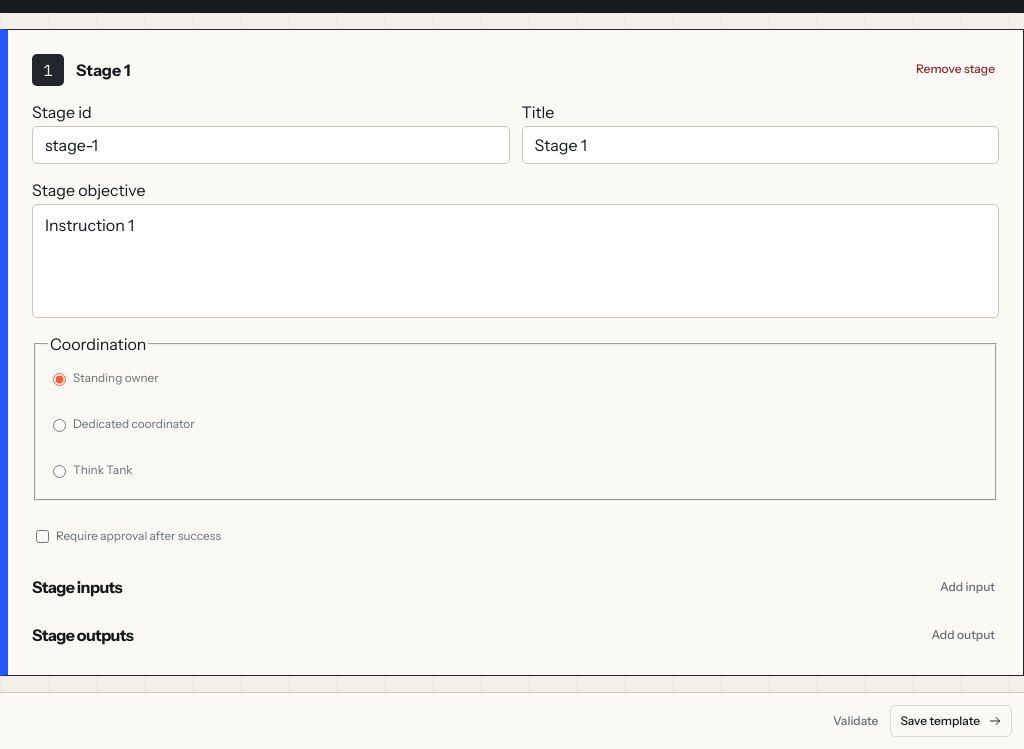
Scenario: TemplateEditor focused workspace › switches a stage to Think Tank and back without touching other stages
The width and height of the screenshot is (1024, 749).
(page scrolled)
Click the radio button labelled "Think Tank" at (60, 472), box [53,465,66,478]
(page scrolled)
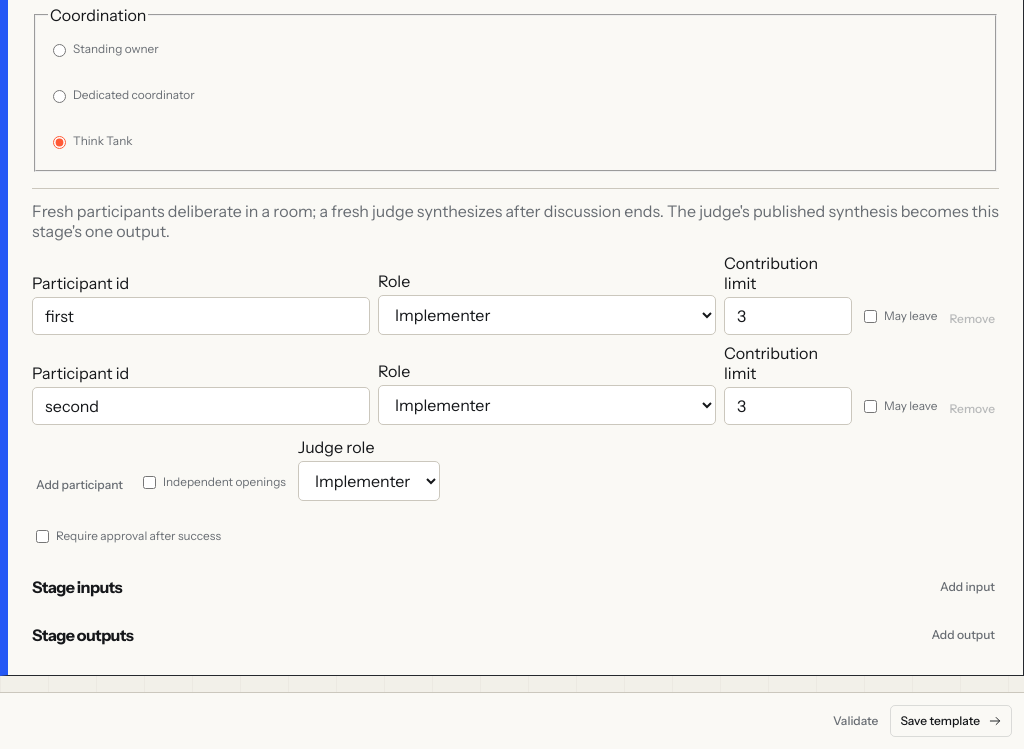
Expected: the number of fields labelled "Participant id" is 2, [32,297,370,335]; [32,387,370,425]
Expected: the dropdown labelled "Judge role" shows "Implementer", [298,461,440,501]
Click the button "Add participant" at (80, 485), box [32,469,127,501]
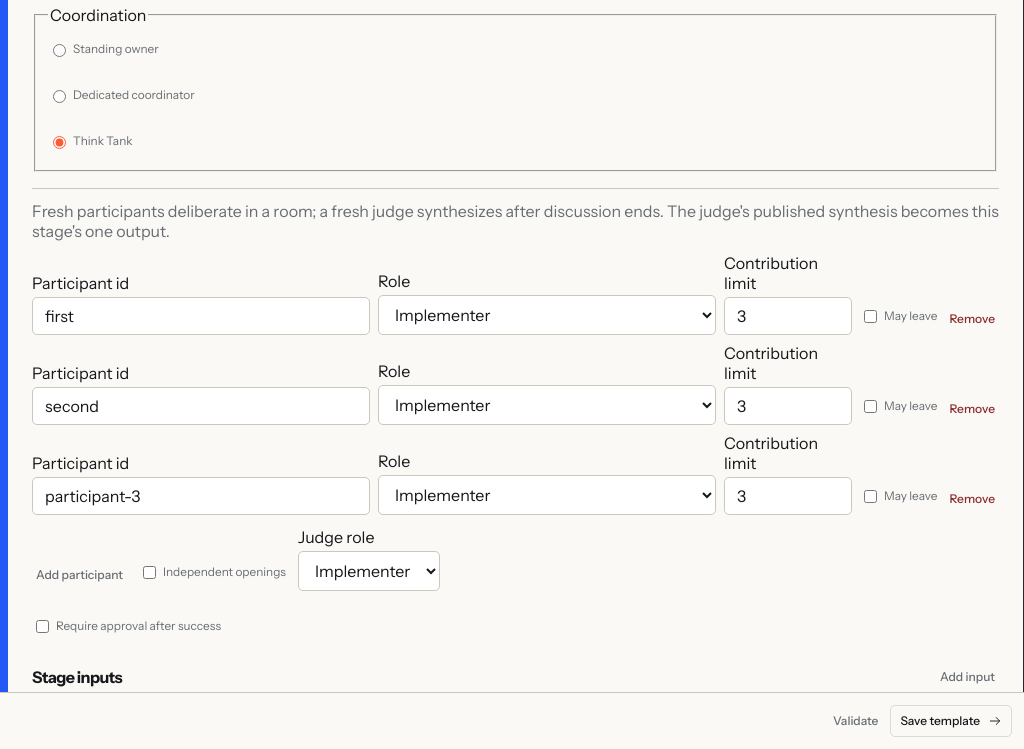
Expected: the number of fields labelled "Participant id" is 3, [32,297,370,335]; [32,387,370,425]; [32,477,370,515]
Click the radio button labelled "Standing owner" at (60, 51), box [53,44,66,57]
(page scrolled)
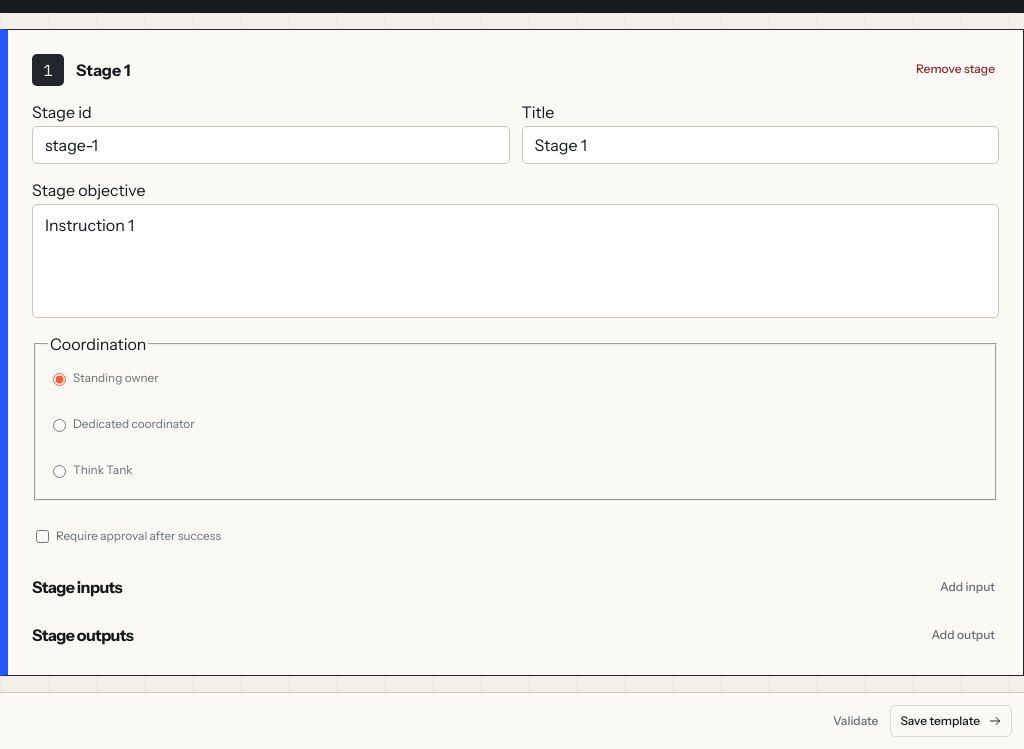
Expected: the text labelled "Participant id" is gone
